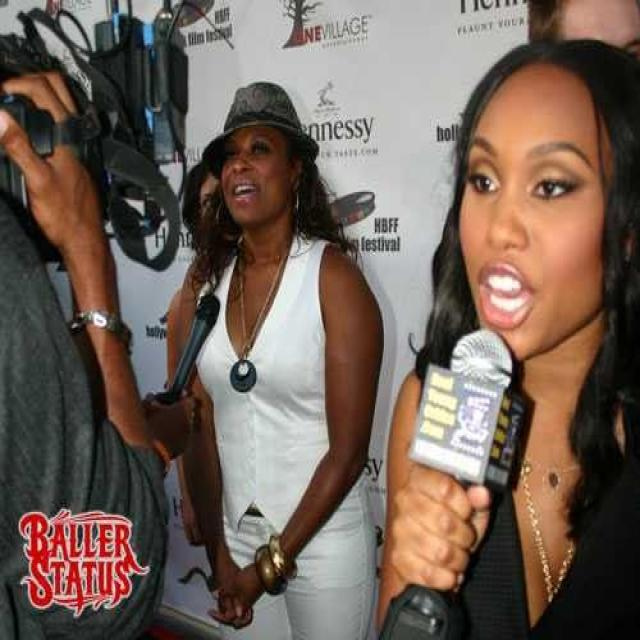microphone: (416, 322, 524, 522), (168, 286, 226, 392)
